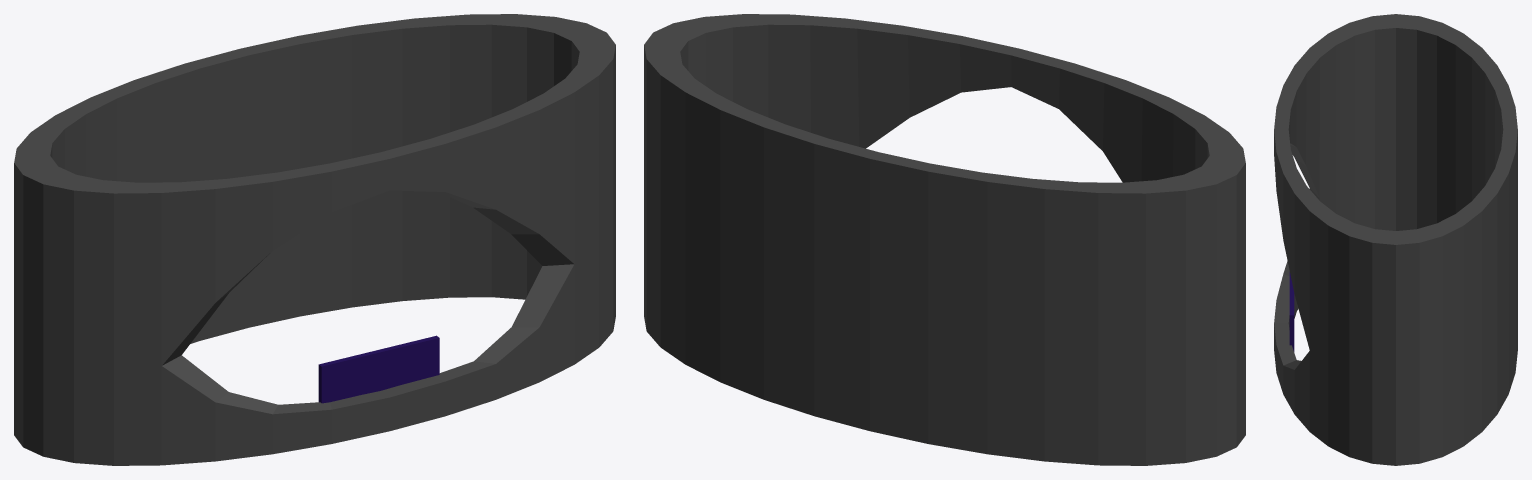
File: timemachineframeblender.fbx
The picture shows the model from 3 angles, left to right: view 1: azimuth 30°, elevation 25°; view 2: azimuth 150°, elevation 25°; view 3: azimuth 270°, elevation 25°; orthographic projection. The views are drawn at different scales.
Visible parts, largest first — view 1: Machine; view 2: Machine; view 3: Machine.
Boxes of the visible parts, x1,y1,x2,y2 form: Machine: [14, 14, 615, 465]; Machine: [644, 14, 1245, 465]; Machine: [1274, 14, 1517, 465].
Size of the model in its own units: 448 by 200 by 200.
